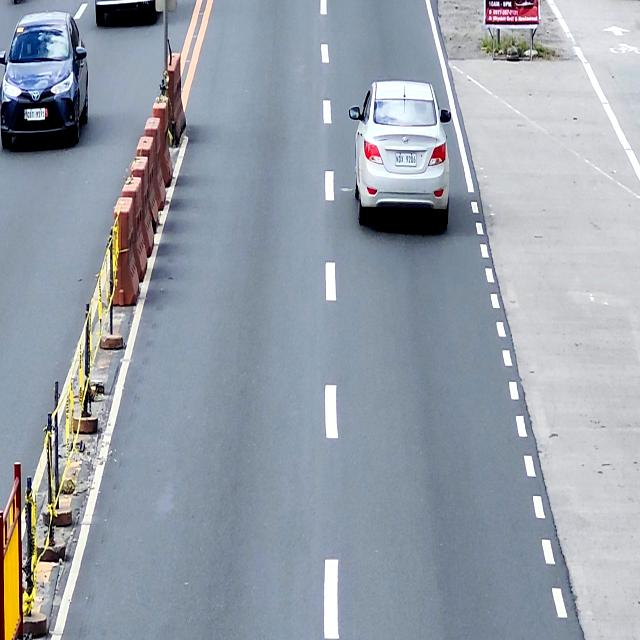Car: (348, 80, 452, 231), (0, 9, 89, 148)
License-Plate: (394, 152, 417, 168), (26, 108, 46, 120)
